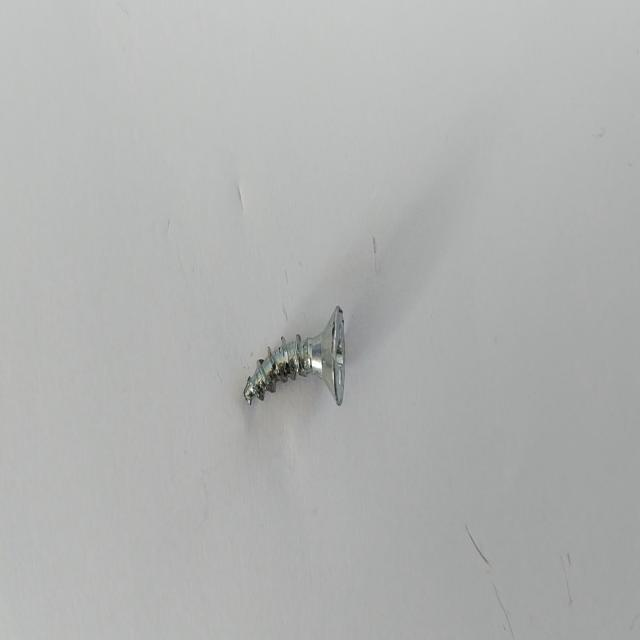Screw: (244, 305, 345, 405)
